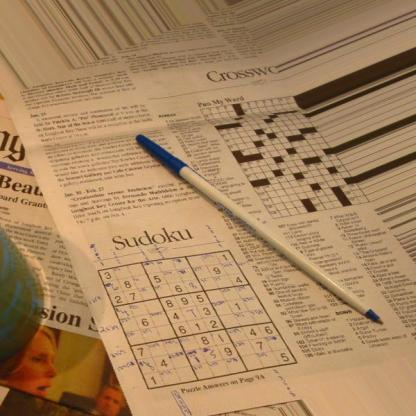sudoku: (92, 248, 300, 392)
